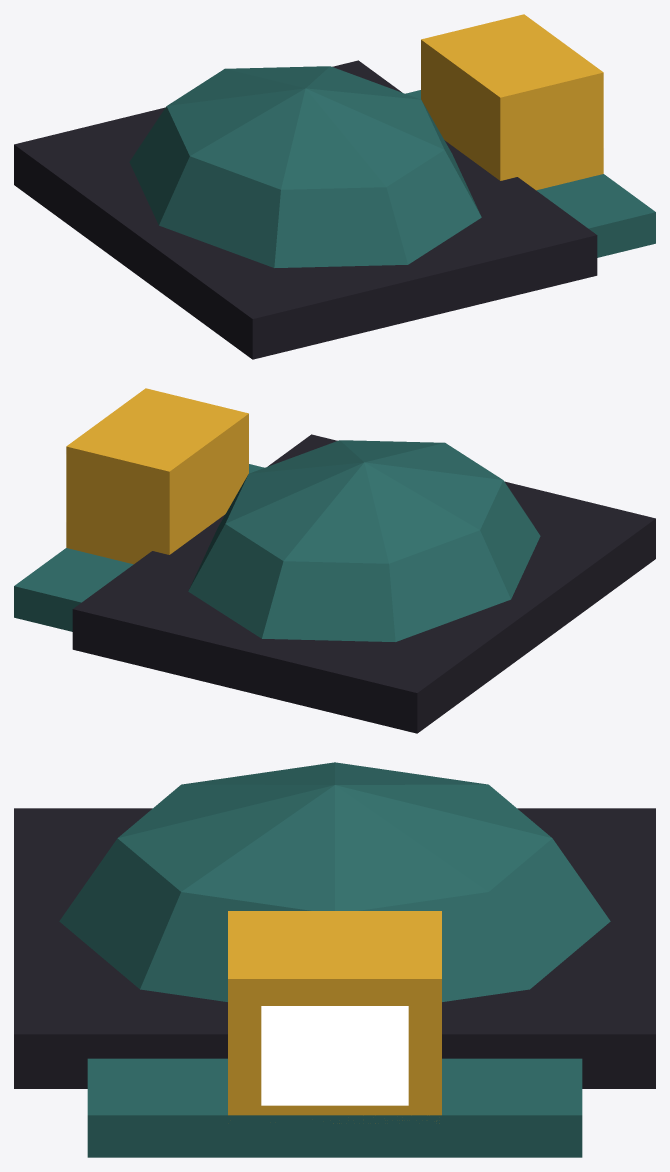
3 renders of one model, top to bottom at view 1: azimuth 30°, elevation 25°; view 2: azimuth 150°, elevation 25°; view 3: azimuth 270°, elevation 25°, orthographic. The views are drawn at different scales.
Parts seen in each view (by area): view 1: cap, band, lamp_housing, brim; view 2: cap, band, lamp_housing, brim; view 3: cap, band, brim, lamp_housing, lamp_lens.
Part boxes in pixels (<box>): cap: <box>129,66,481,267</box>; band: <box>14,60,597,359</box>; lamp_housing: <box>421,14,603,190</box>; brim: <box>405,90,655,257</box>; cap: <box>188,440,540,641</box>; band: <box>72,434,655,733</box>; lamp_housing: <box>66,388,248,564</box>; brim: <box>14,464,264,631</box>; cap: <box>59,762,610,1001</box>; band: <box>14,808,655,1088</box>; brim: <box>87,1058,582,1157</box>; lamp_housing: <box>228,911,441,1123</box>; lamp_lens: <box>261,1006,408,1105</box>.
Size of the model in its own units: 0.515 by 0.1675 by 0.48.
